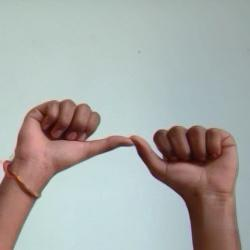A: (2, 10, 250, 250)
